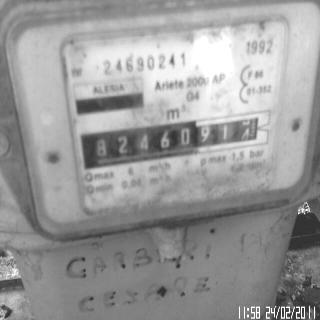1: (179, 124, 192, 148)
2: (221, 124, 229, 142)
3: (116, 133, 130, 156)
5: (139, 133, 151, 154), (241, 125, 251, 143)
7: (159, 129, 172, 152)
9: (92, 138, 108, 161)
:: (200, 124, 211, 144)
